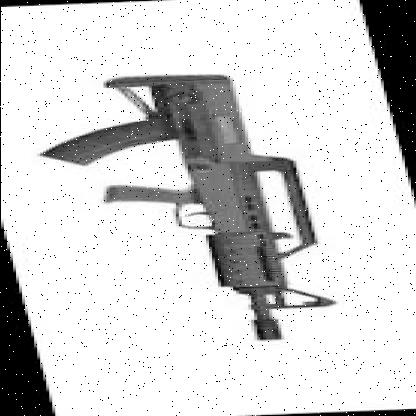rifle: (19, 65, 358, 345)
